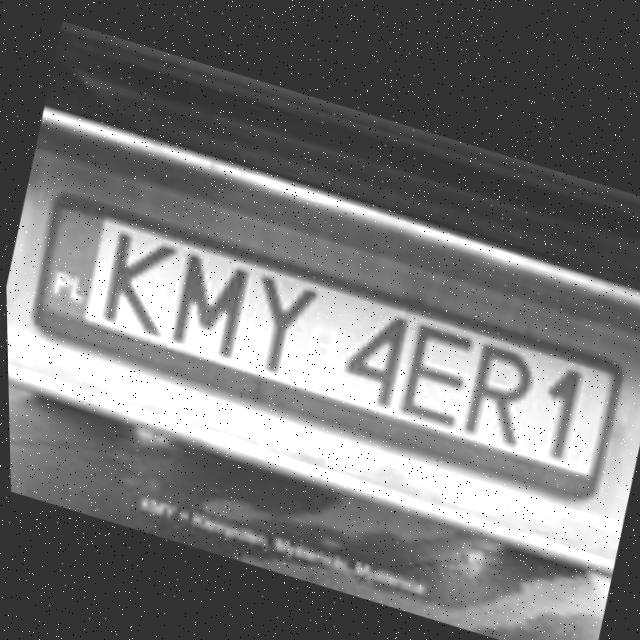license-plates: (39, 204, 615, 477)
